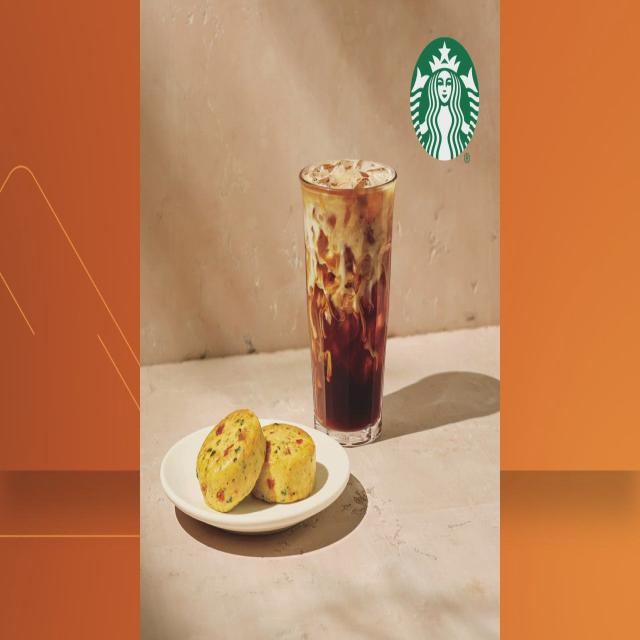starbucks: (411, 38, 480, 157)
